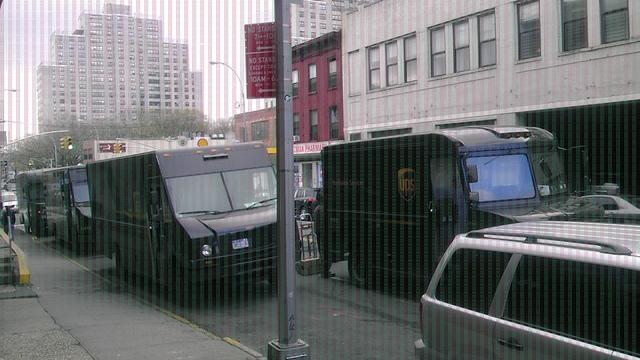car: (415, 220, 640, 360), (576, 194, 638, 216), (1, 190, 18, 212)
truck: (318, 123, 606, 302), (85, 141, 279, 302), (42, 166, 92, 253), (16, 169, 51, 235)
